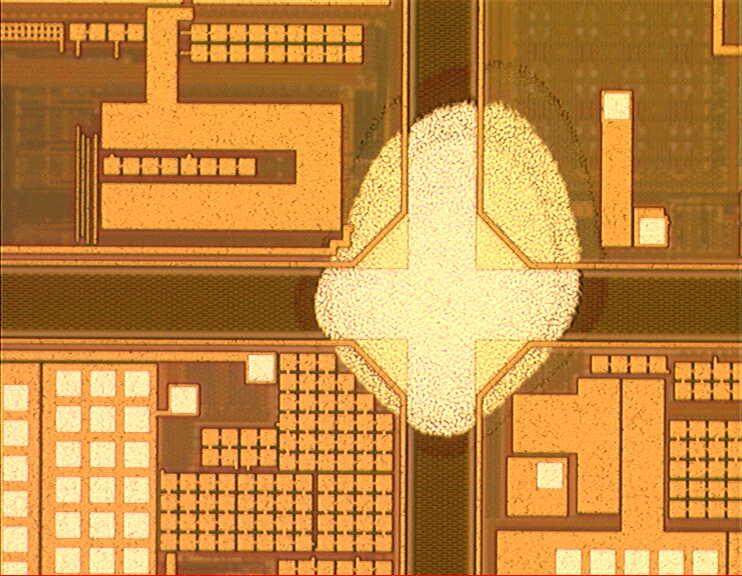BLOCK ETCH: (294, 56, 613, 461)
